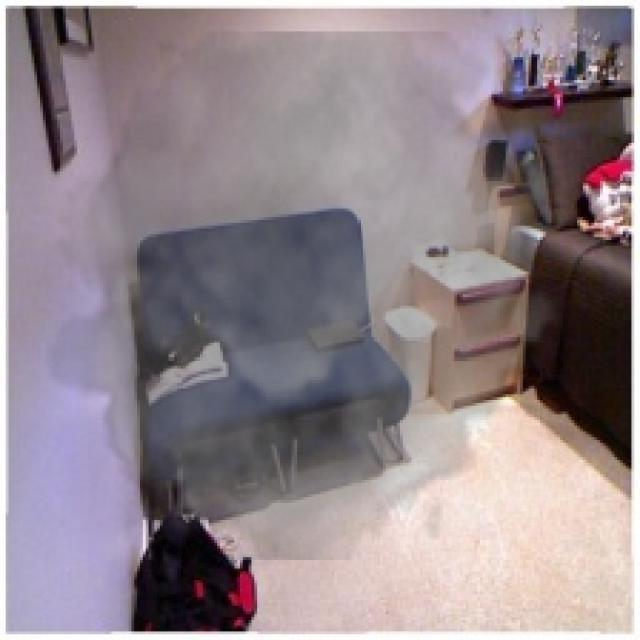Smoke: (45, 31, 578, 560)
